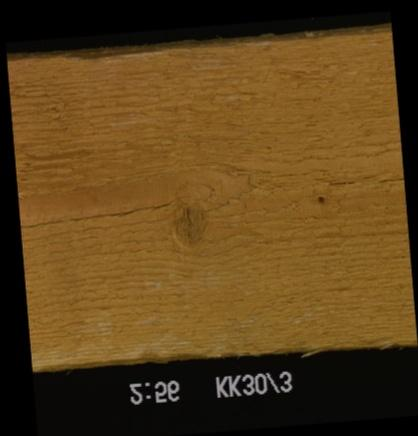small_knot: (311, 194, 327, 208)
split: (19, 198, 191, 220), (320, 176, 402, 186)
wave: (32, 350, 223, 366), (58, 45, 160, 72)
